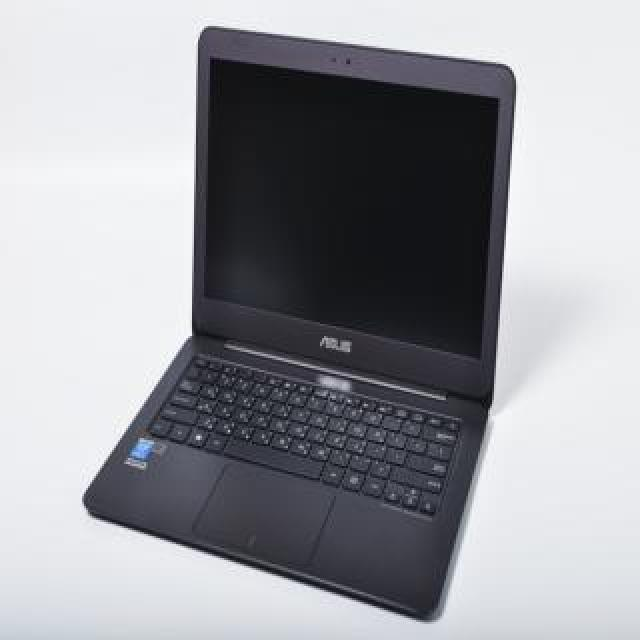laptop_computer: (125, 25, 488, 619)
